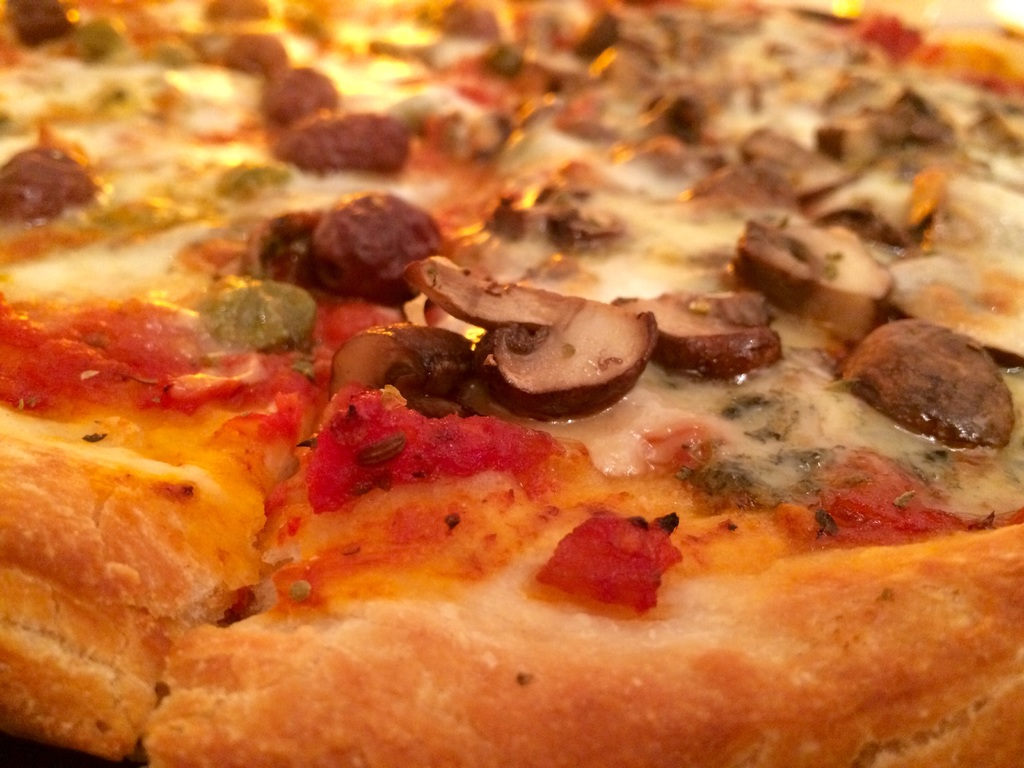Pizza: (0, 22, 1024, 768)
